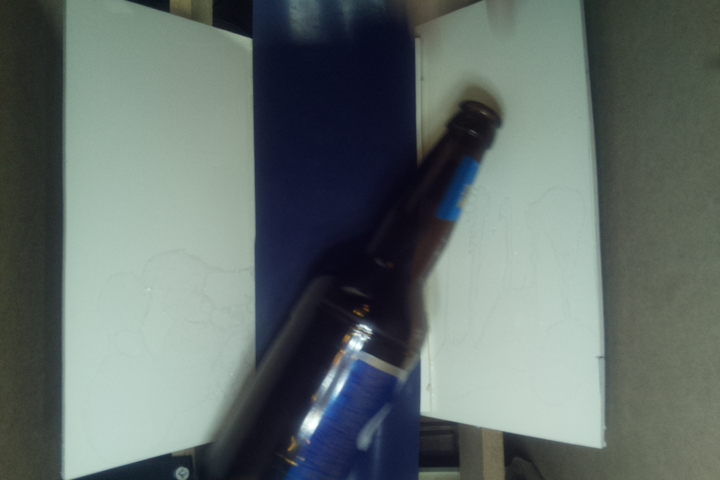makju: (195, 98, 503, 480)
